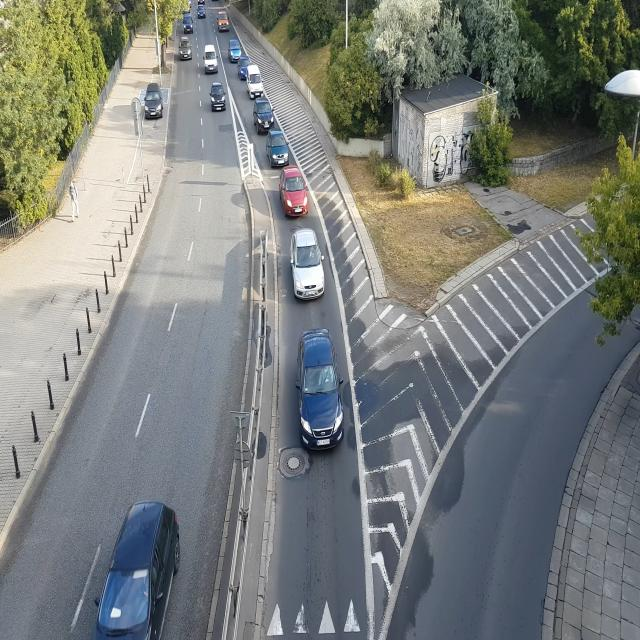car: (94, 485, 180, 640), (293, 324, 348, 448), (290, 228, 326, 300), (279, 165, 308, 216), (266, 126, 290, 166), (252, 100, 274, 134), (143, 88, 165, 120), (246, 62, 265, 96), (211, 82, 227, 111), (202, 47, 219, 74), (237, 56, 253, 78), (179, 38, 194, 61), (248, 84, 268, 100), (228, 41, 242, 61), (217, 14, 231, 32), (183, 15, 196, 33), (198, 7, 206, 19)
